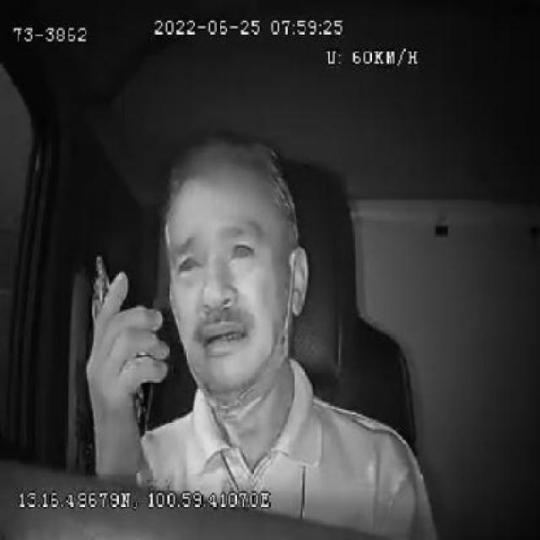phone: (87, 247, 154, 440)
